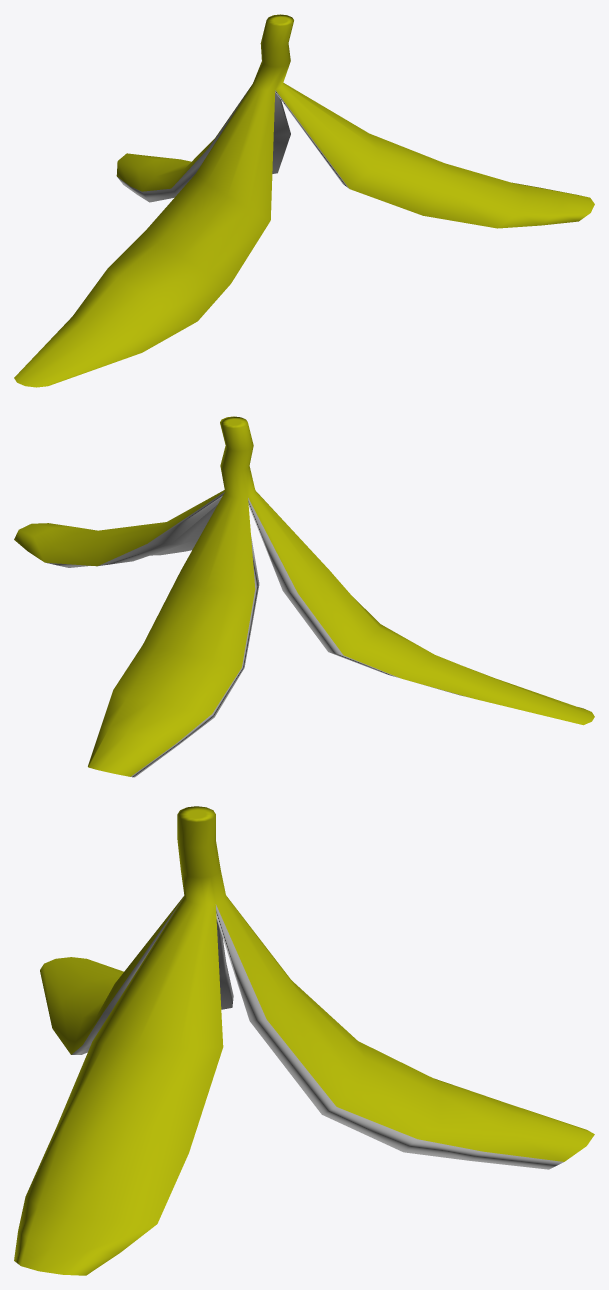
File: banana.fbx
3 views of the same model, one above another, from view 1: azimuth 30°, elevation 25°; view 2: azimuth 150°, elevation 25°; view 3: azimuth 270°, elevation 25° (orthographic). The views are drawn at different scales.
Parts seen in each view (by area): view 1: pCylinder1; view 2: pCylinder1; view 3: pCylinder1.
Part boxes in pixels (x1=…): pCylinder1: x1=14, y1=14, x2=594, y2=387; pCylinder1: x1=14, y1=416, x2=594, y2=777; pCylinder1: x1=14, y1=806, x2=594, y2=1275.
Size of the model in its own units: 13.38 by 5.69 by 8.54.
